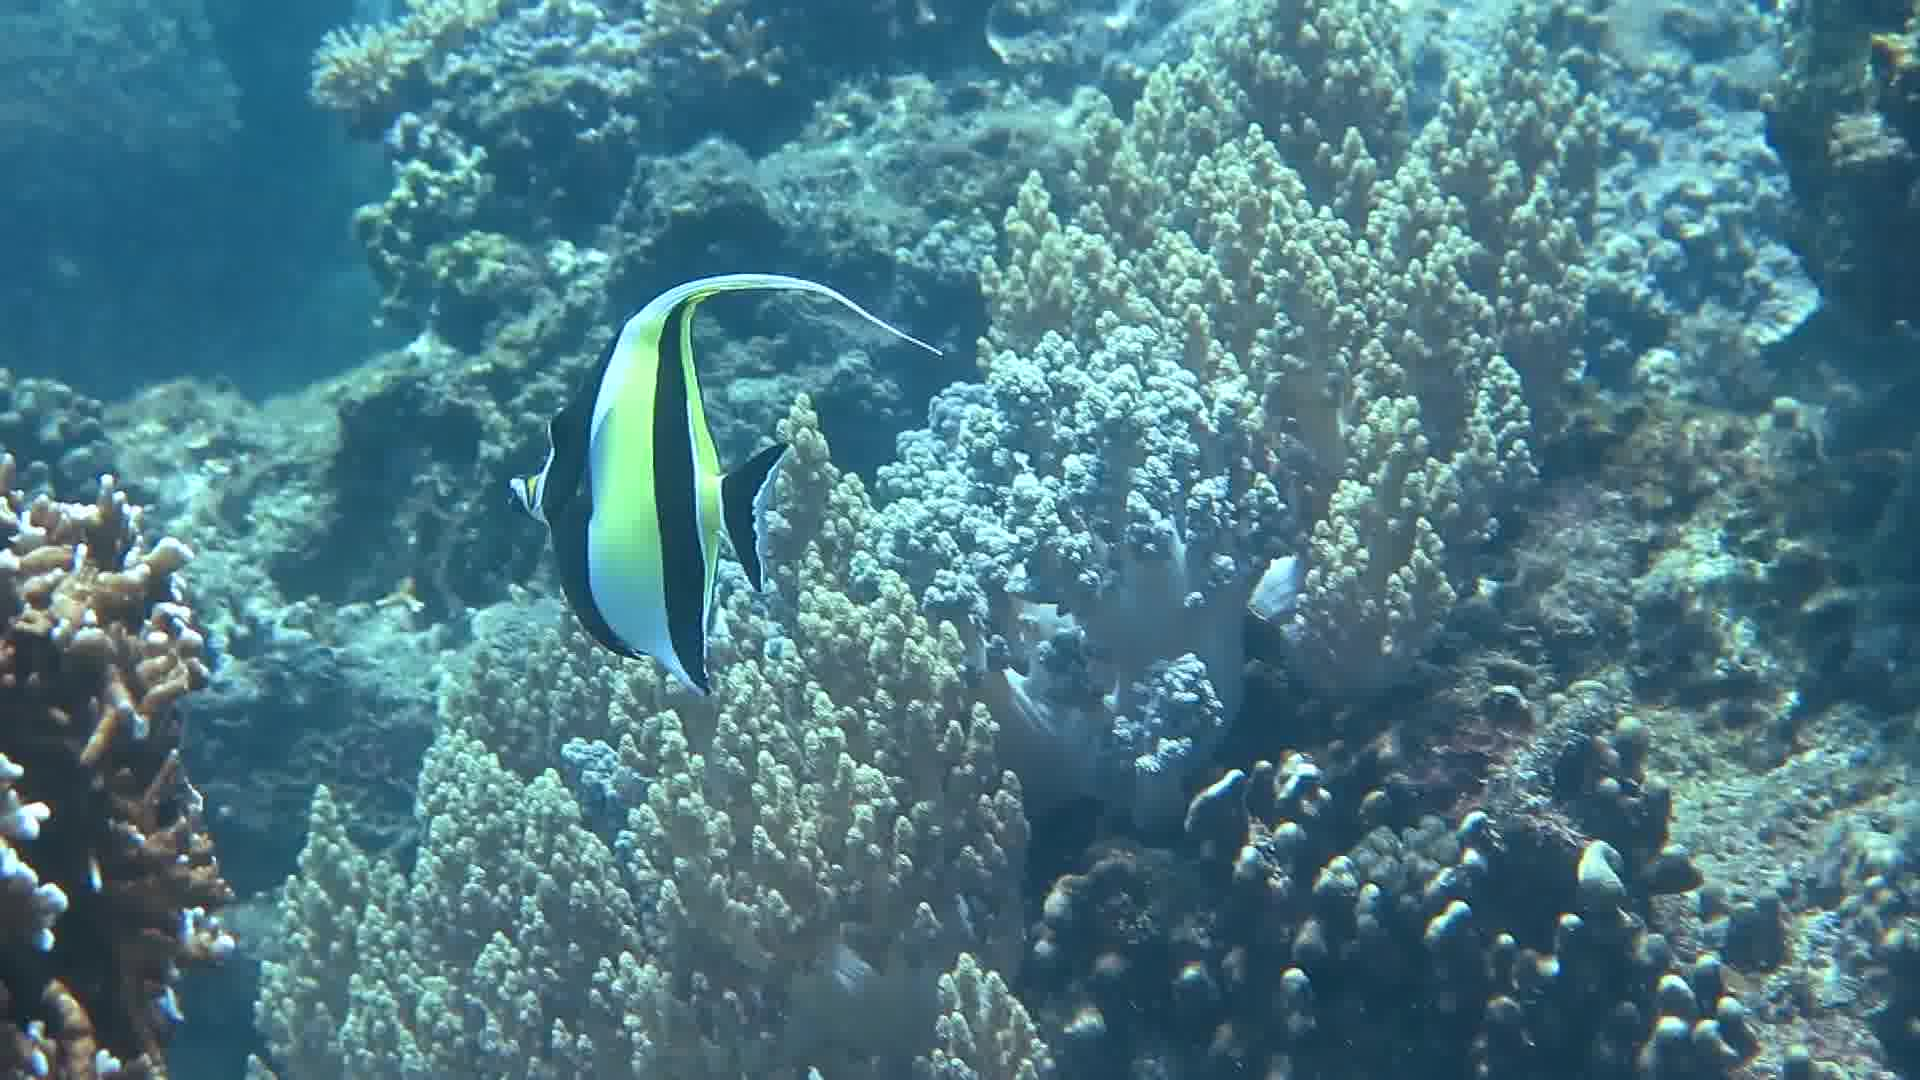Zanclus cornutus: (518, 224, 777, 777)
